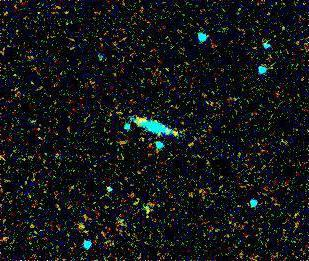star: (163, 116, 193, 146)
